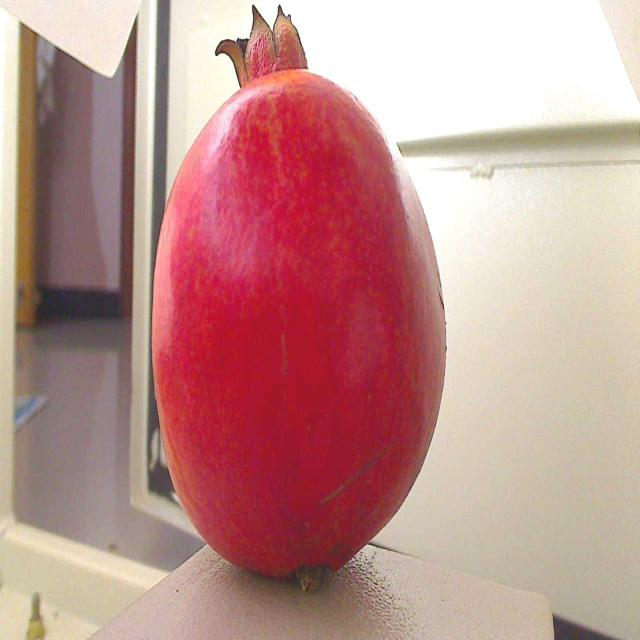pomegranate: (139, 2, 454, 602)
